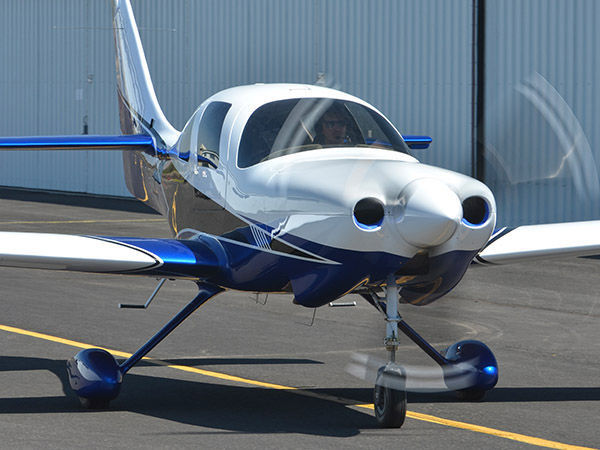Aeronef_de_loisir: (1, 1, 599, 448)
